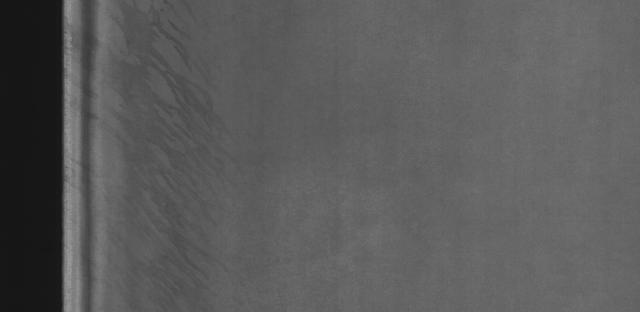water_spot: (110, 2, 242, 310)
